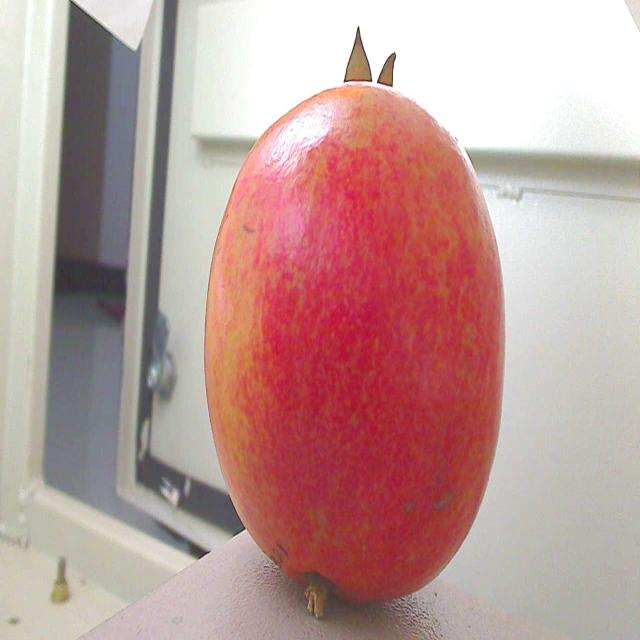pomegranate: (202, 20, 516, 633)
